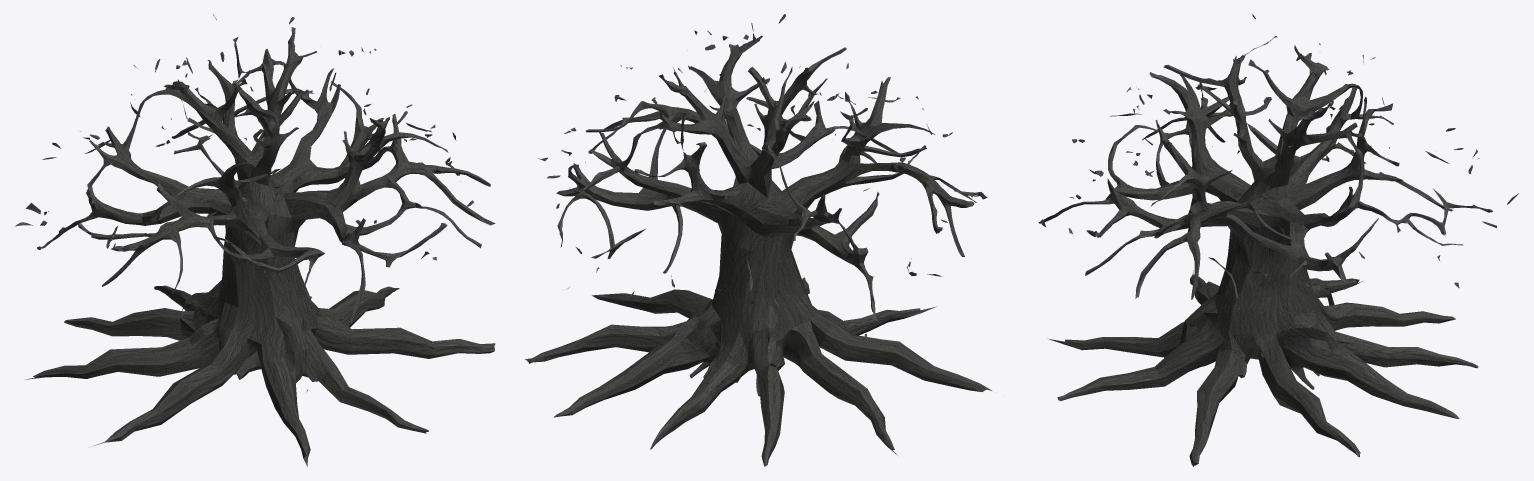
File: wh-reachtree-b.glb
3 renders of one model, left to right at view 1: azimuth 30°, elevation 25°; view 2: azimuth 150°, elevation 25°; view 3: azimuth 270°, elevation 25°, orthographic. The views are drawn at different scales.
Bounding box in the file's own units: 1.55 × 1.16 × 1.58.
1 material, 1 textured.
